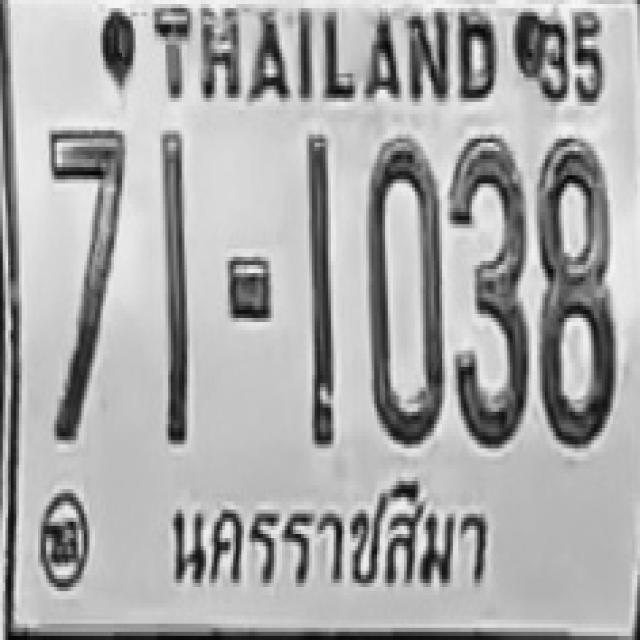0: (368, 139, 443, 444)
1: (305, 135, 335, 440), (160, 135, 190, 440), (306, 134, 334, 403)
3: (447, 137, 529, 450)
7: (48, 127, 126, 440)
8: (537, 136, 616, 446)
NakhonRatchasima: (156, 462, 506, 605)
